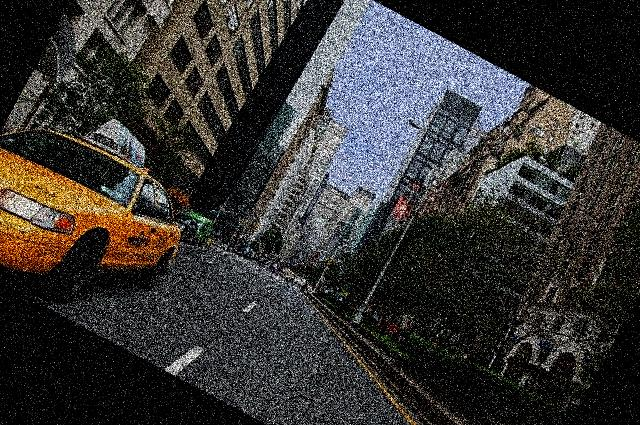taxi: (1, 121, 179, 297)
